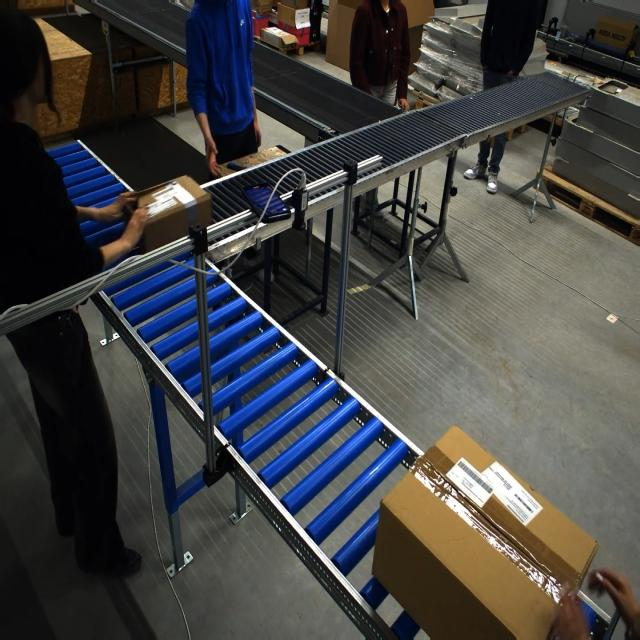box: (379, 430, 603, 640), (127, 175, 211, 252)
